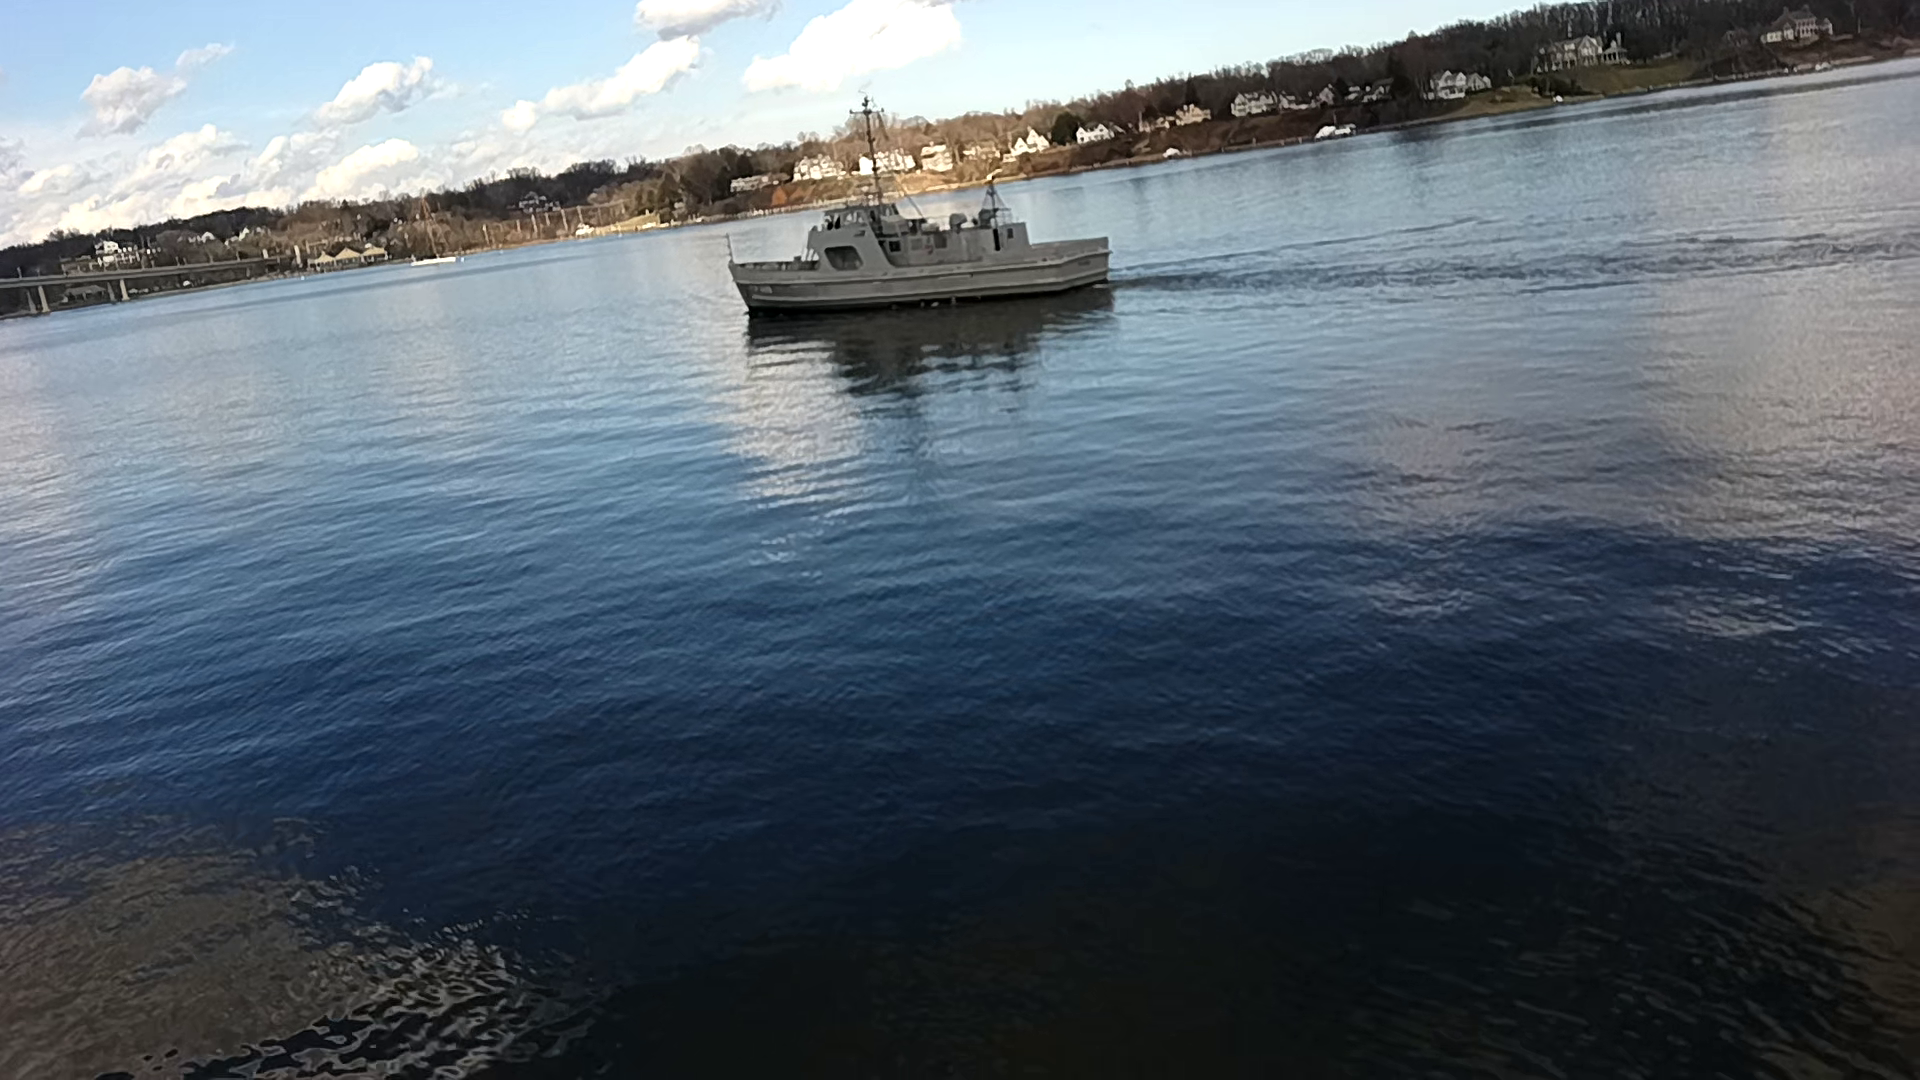YP689: (728, 94, 1112, 313)
